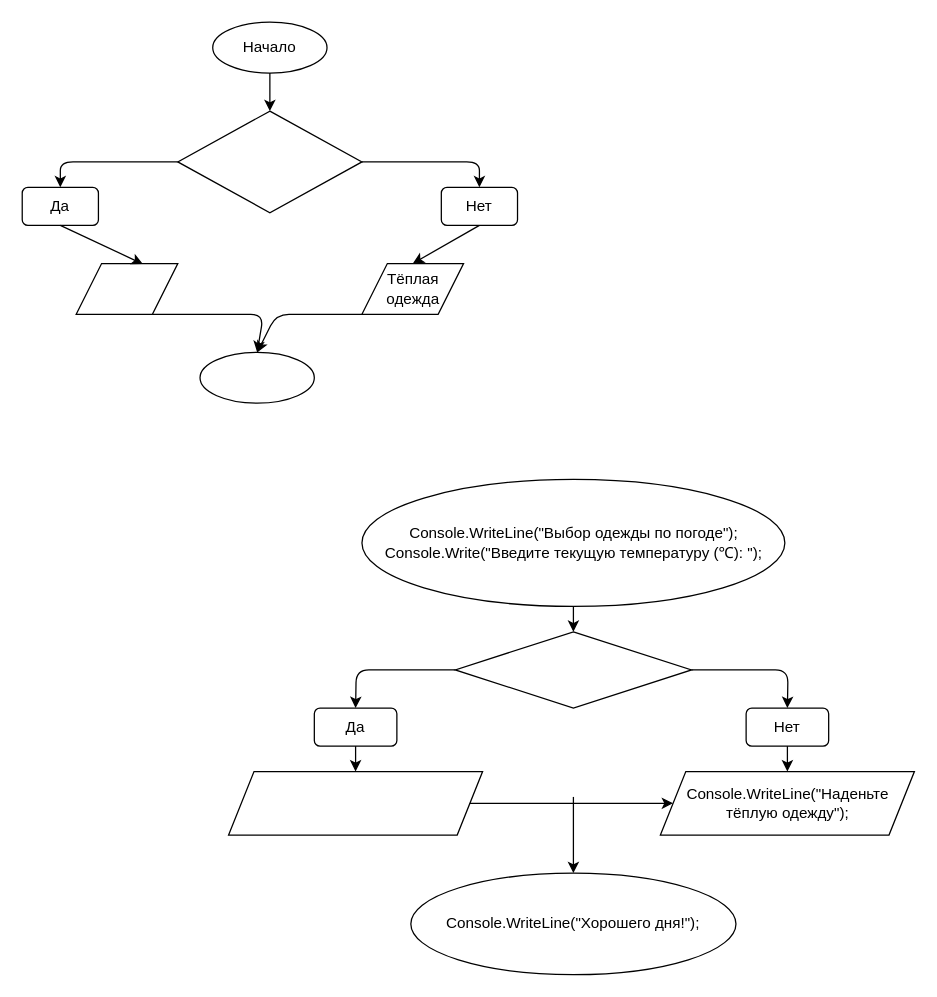
Image size: 937x997. Some labels were removed from this diagram. Here are the shapes that lost their labels. From the top down, the centre of each, then its label:
[269,161]: Температура >= 20℃ ?
[126,288]: Лёгкая одежда
[256,377]: Конец
[573,669]: if (temperature >= 20)
[355,802]: Console.WriteLine("Наденьте лёгкую одежду");
